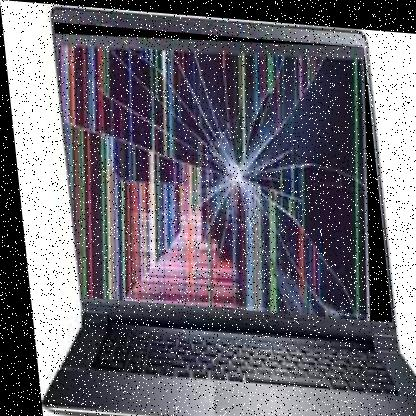crack: (53, 22, 386, 318)
lines: (60, 25, 384, 308)
